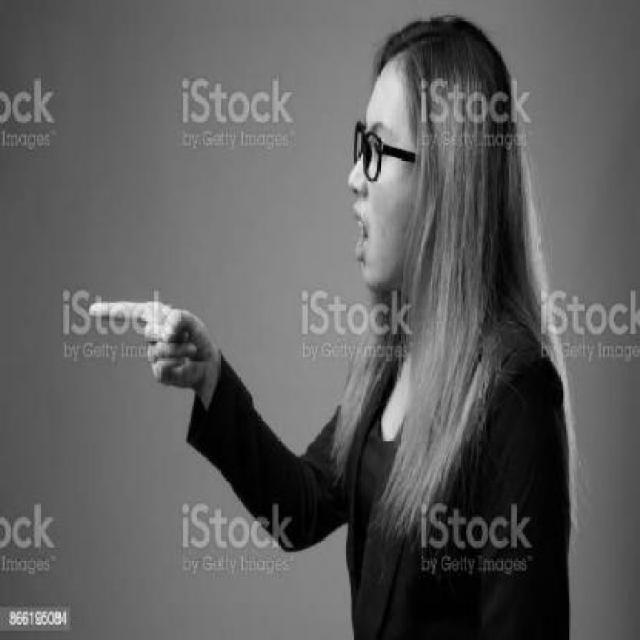angry: (345, 103, 407, 272)
